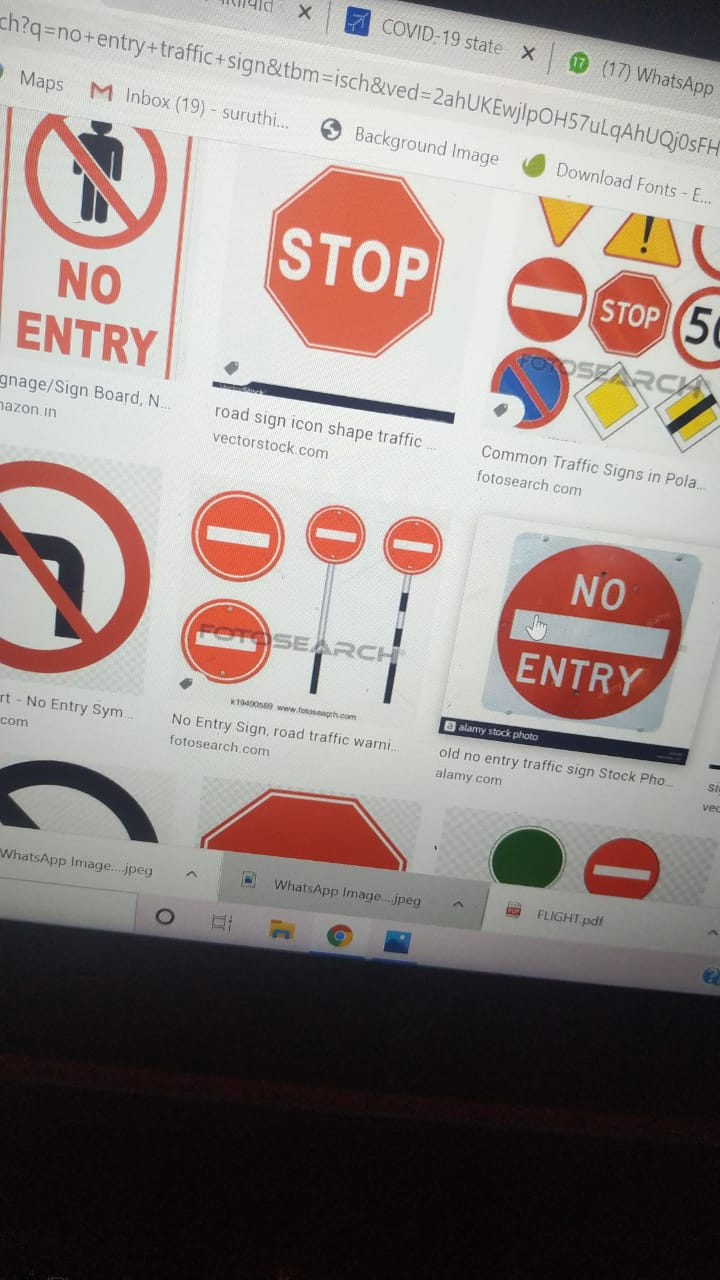NO ENTRY: (187, 765, 417, 888), (166, 594, 283, 691), (191, 463, 279, 587), (497, 250, 602, 345), (572, 826, 681, 915), (297, 491, 370, 584), (377, 498, 447, 583)
STOP: (256, 130, 458, 363), (579, 263, 666, 364)
